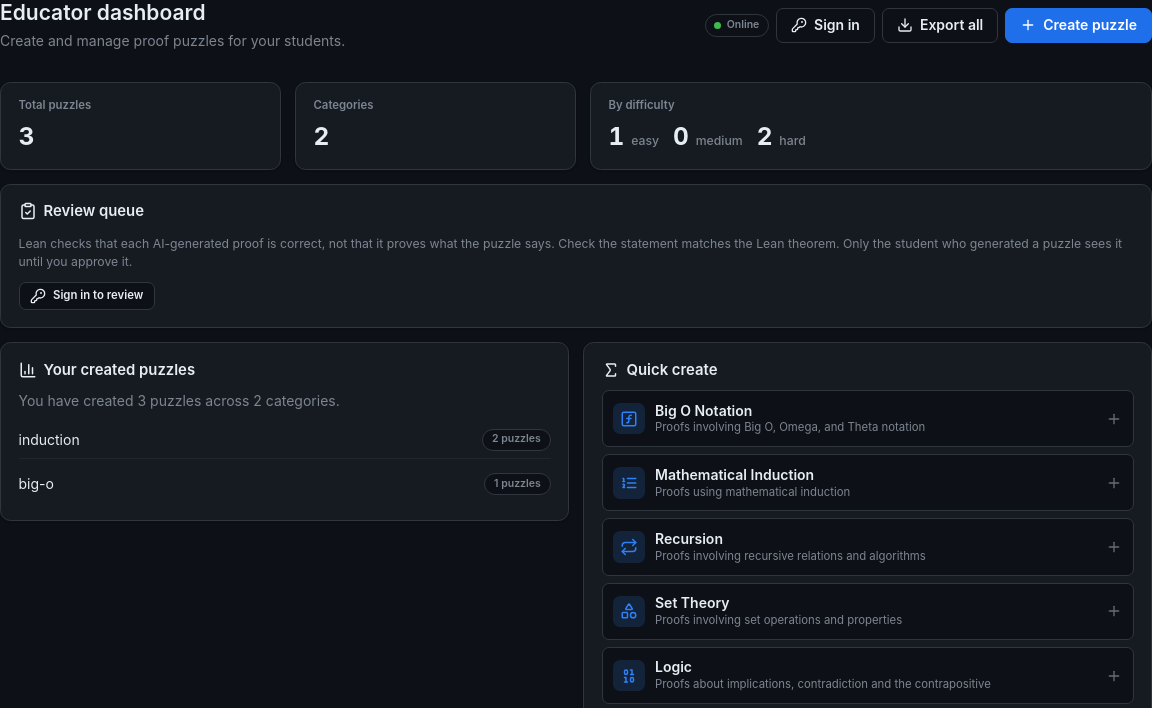
Test case: EducatorPage › educator sign-in › checks the key, keeps it for the tab and signs out again
Click the button "Sign in".
click(825, 25)  # box x1=776 y1=8 x2=875 y2=43
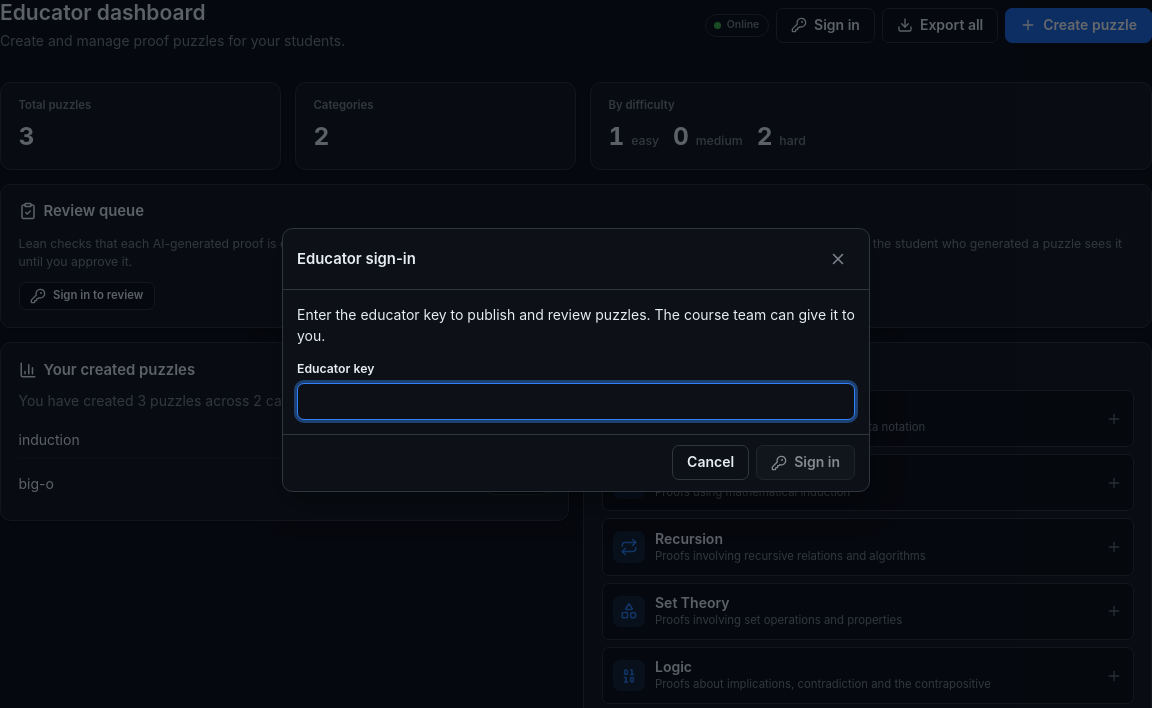
Type "wrong" into the password field labelled "Educator key".
click(576, 402); type("wrong")  # box x1=297 y1=383 x2=855 y2=420
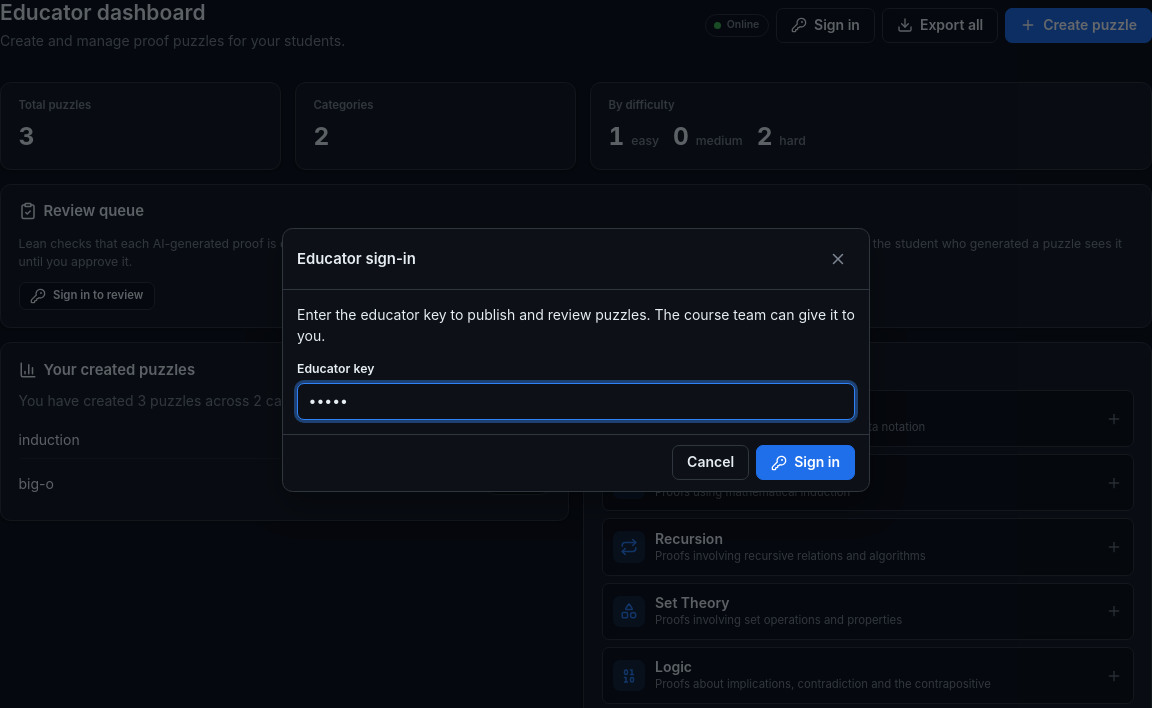
Click the button "Sign in".
click(806, 463)  # box x1=756 y1=445 x2=855 y2=480
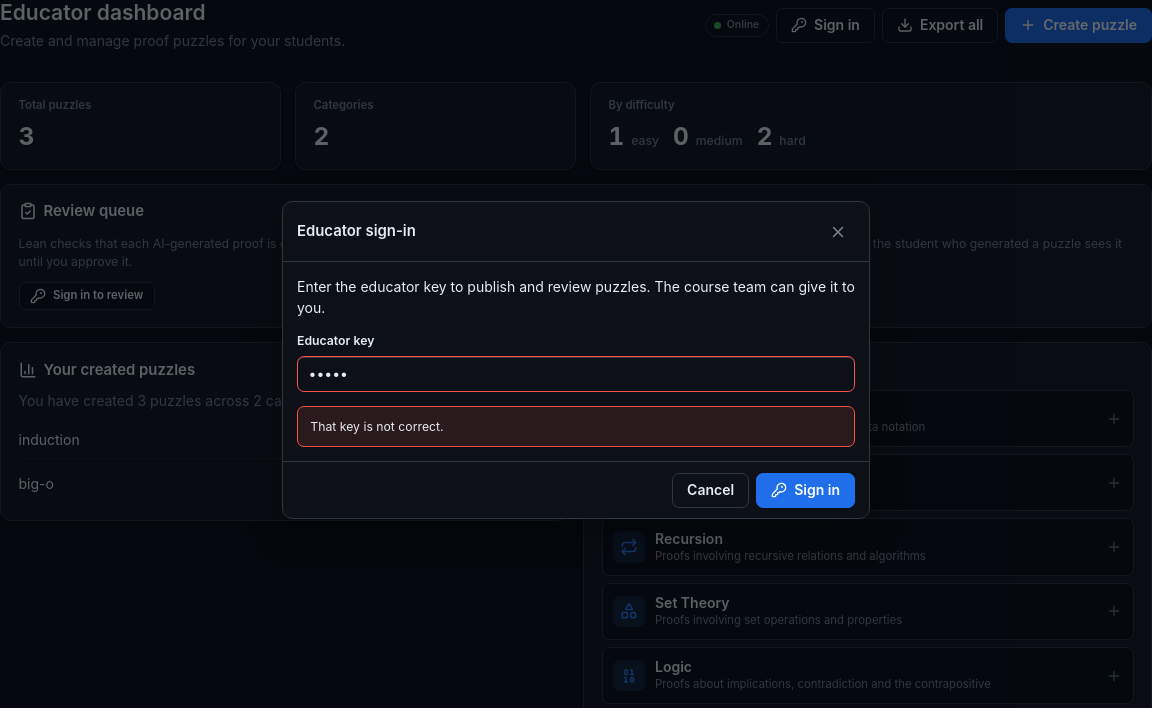
Now the message reads "That key is not correct.", box x1=310 y1=419 x2=444 y2=434
Type " right-key " into the password field labelled "Educator key".
click(576, 374); type(" right-key ")  # box x1=297 y1=356 x2=855 y2=392
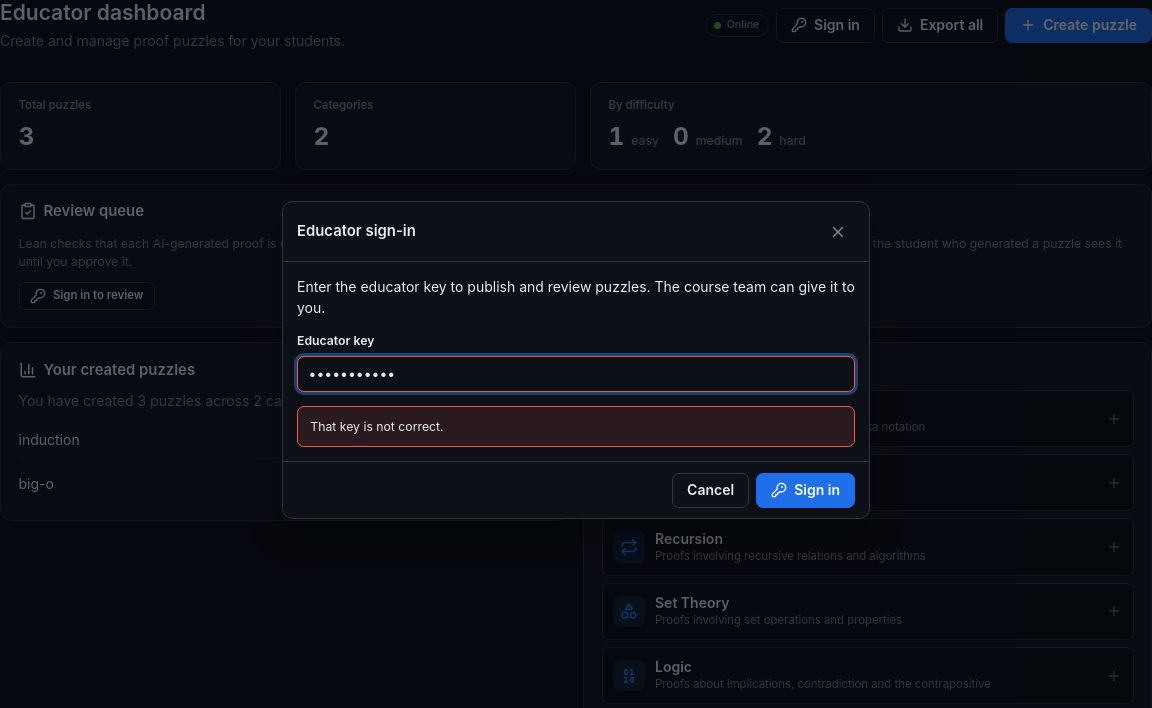
Click the button "Sign in".
click(806, 490)  # box x1=756 y1=473 x2=855 y2=508
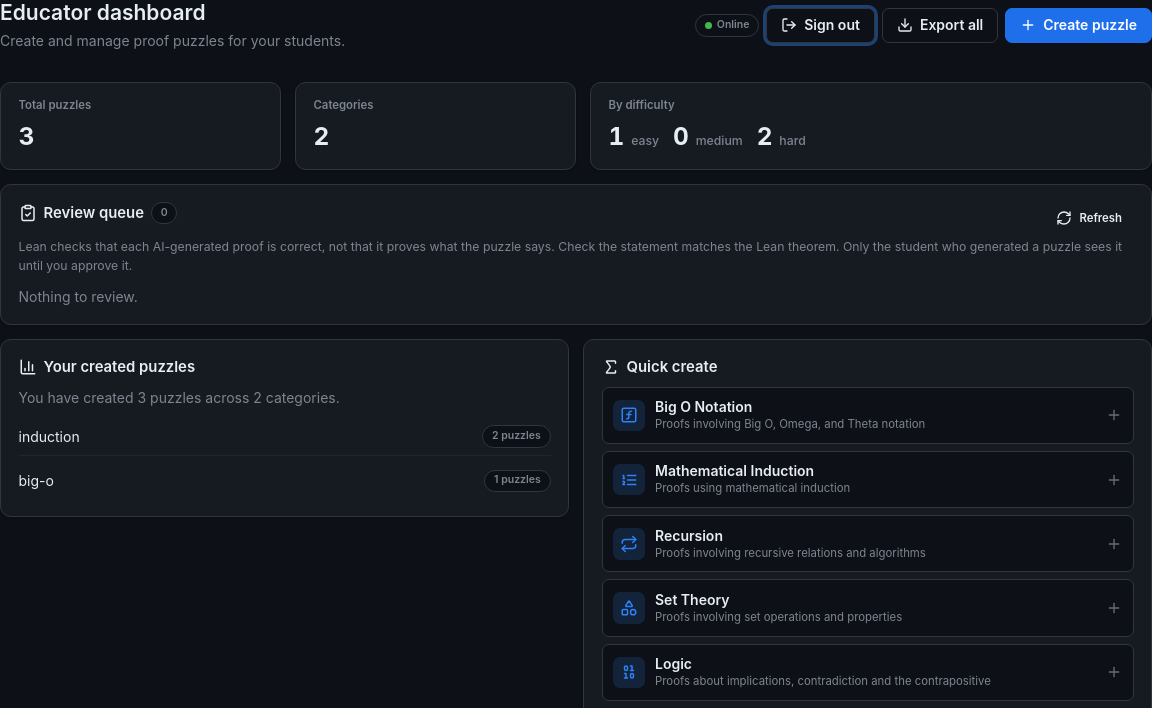
Now the dialog is gone
Click the button "Sign out".
click(821, 25)  # box x1=766 y1=8 x2=875 y2=43
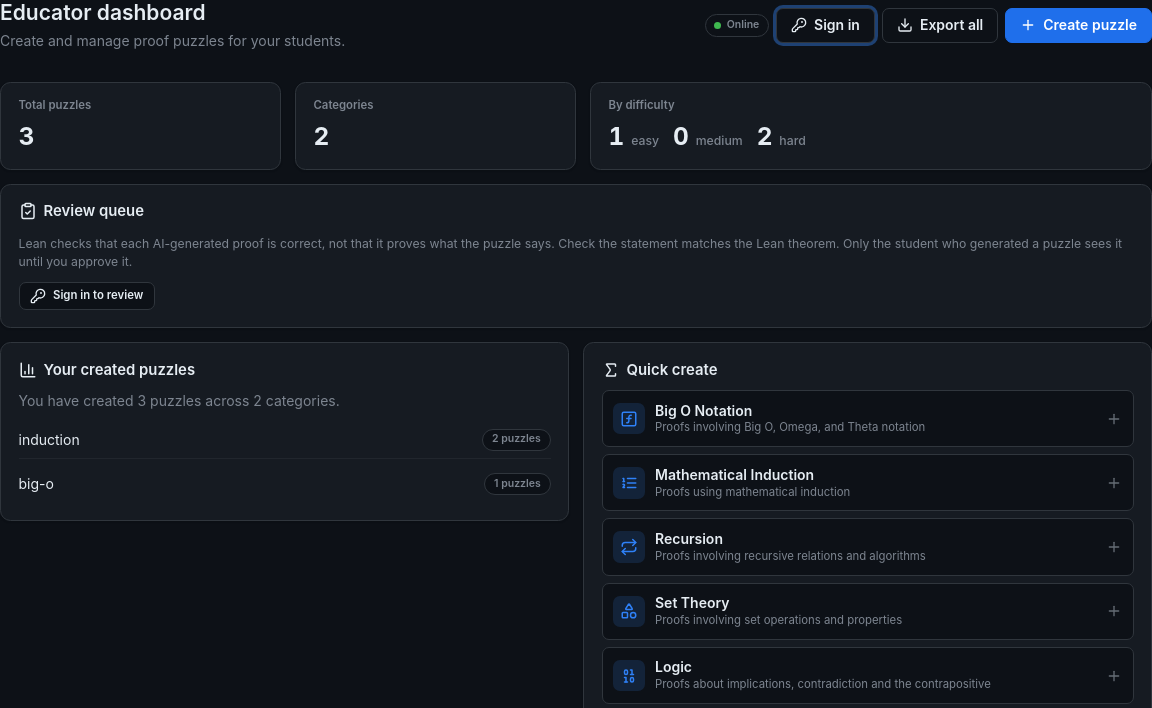
Now the button "Sign in" is shown, box x1=776 y1=8 x2=875 y2=43
